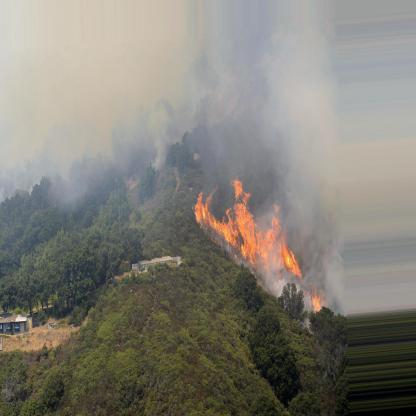fire: (190, 168, 304, 280), (302, 281, 330, 323)
smoke: (12, 47, 170, 188), (284, 31, 346, 276), (194, 13, 278, 190)
